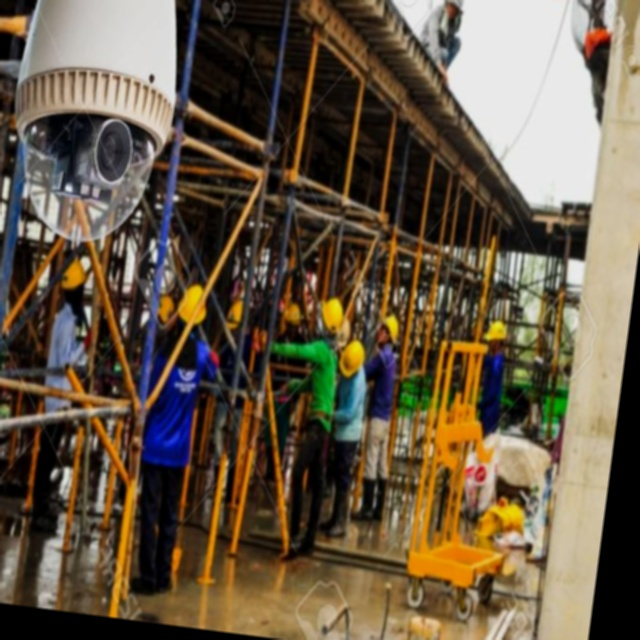Con_Casco: (337, 336, 367, 381)
